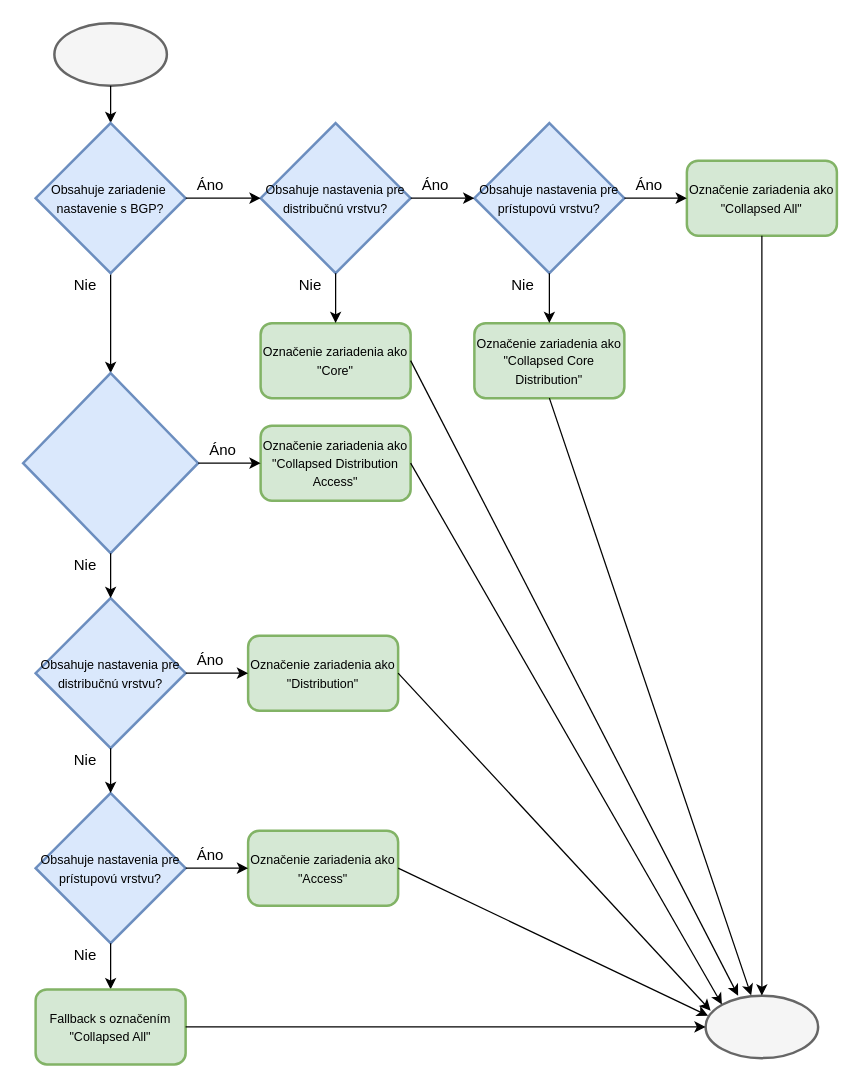
Image size: 859x1086. Some labels were removed from this diagram. Here are the shapes that lost their labels. From the top down, the centre of each, then its label:
At point 110,53: "Začiatok".
At point 110,462: "Obsahuje nastavenia pre prístupovú aj distribučnú vrstvu?".
At point 761,1026: "Koniec".
